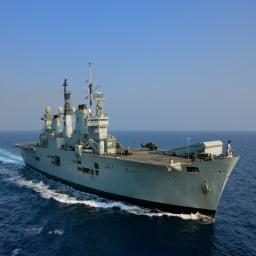Portanaves: (14, 60, 244, 231)
